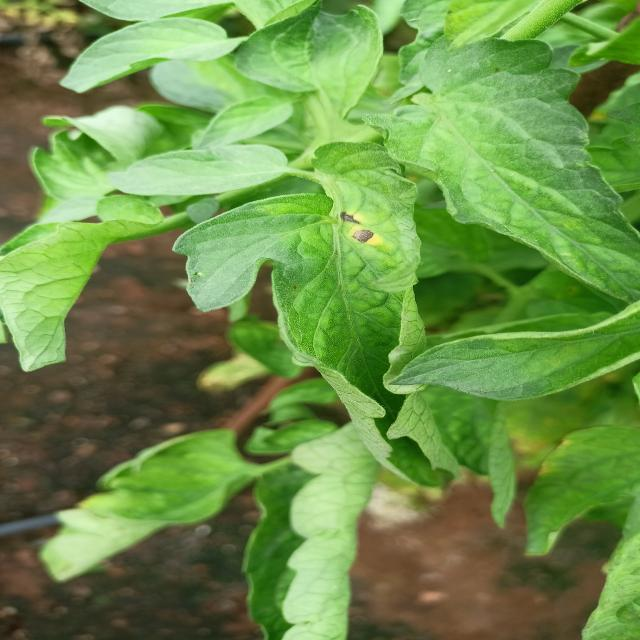Tomato mosaic virus leaf: (264, 137, 476, 493)
